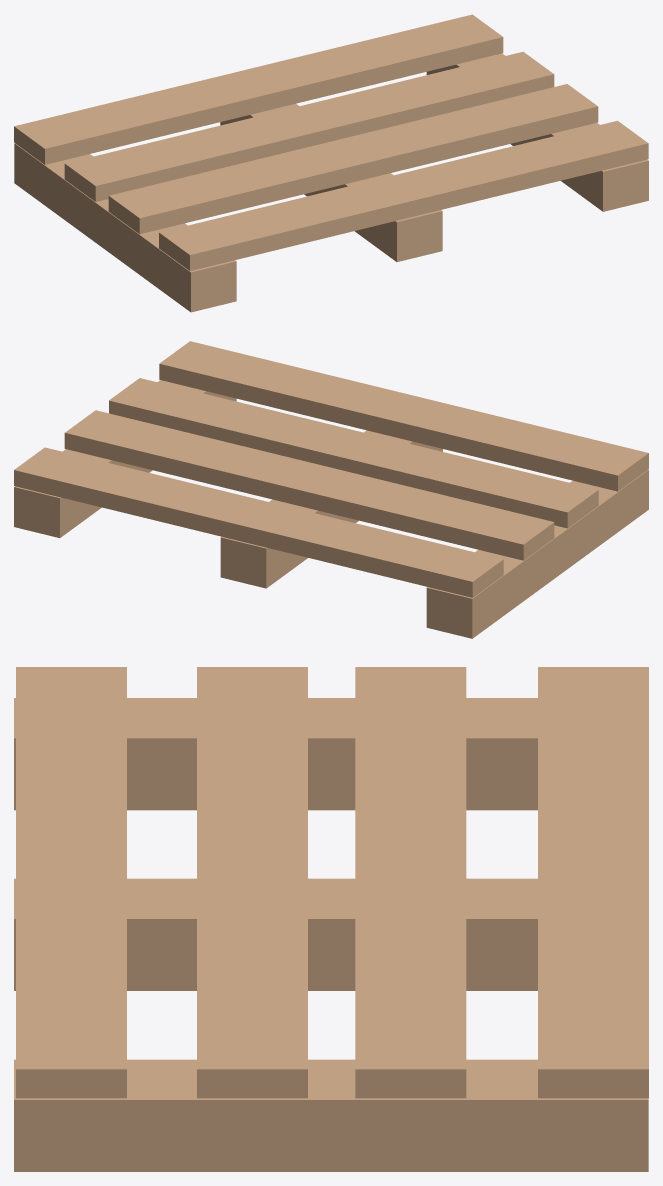
The model's file is Palette.fbx.
3 views of the same model, one above another, from view 1: azimuth 30°, elevation 25°; view 2: azimuth 150°, elevation 25°; view 3: azimuth 270°, elevation 25° (orthographic). The views are drawn at different scales.
Parts seen in each view (by area): view 1: Palette; view 2: Palette; view 3: Palette.
Boxes of the visible parts, x1,y1,x2,y2 form: Palette: [14, 14, 648, 312]; Palette: [14, 341, 648, 638]; Palette: [14, 667, 648, 1171].
Size of the model in its own units: 120 by 14.27 by 80.03.
